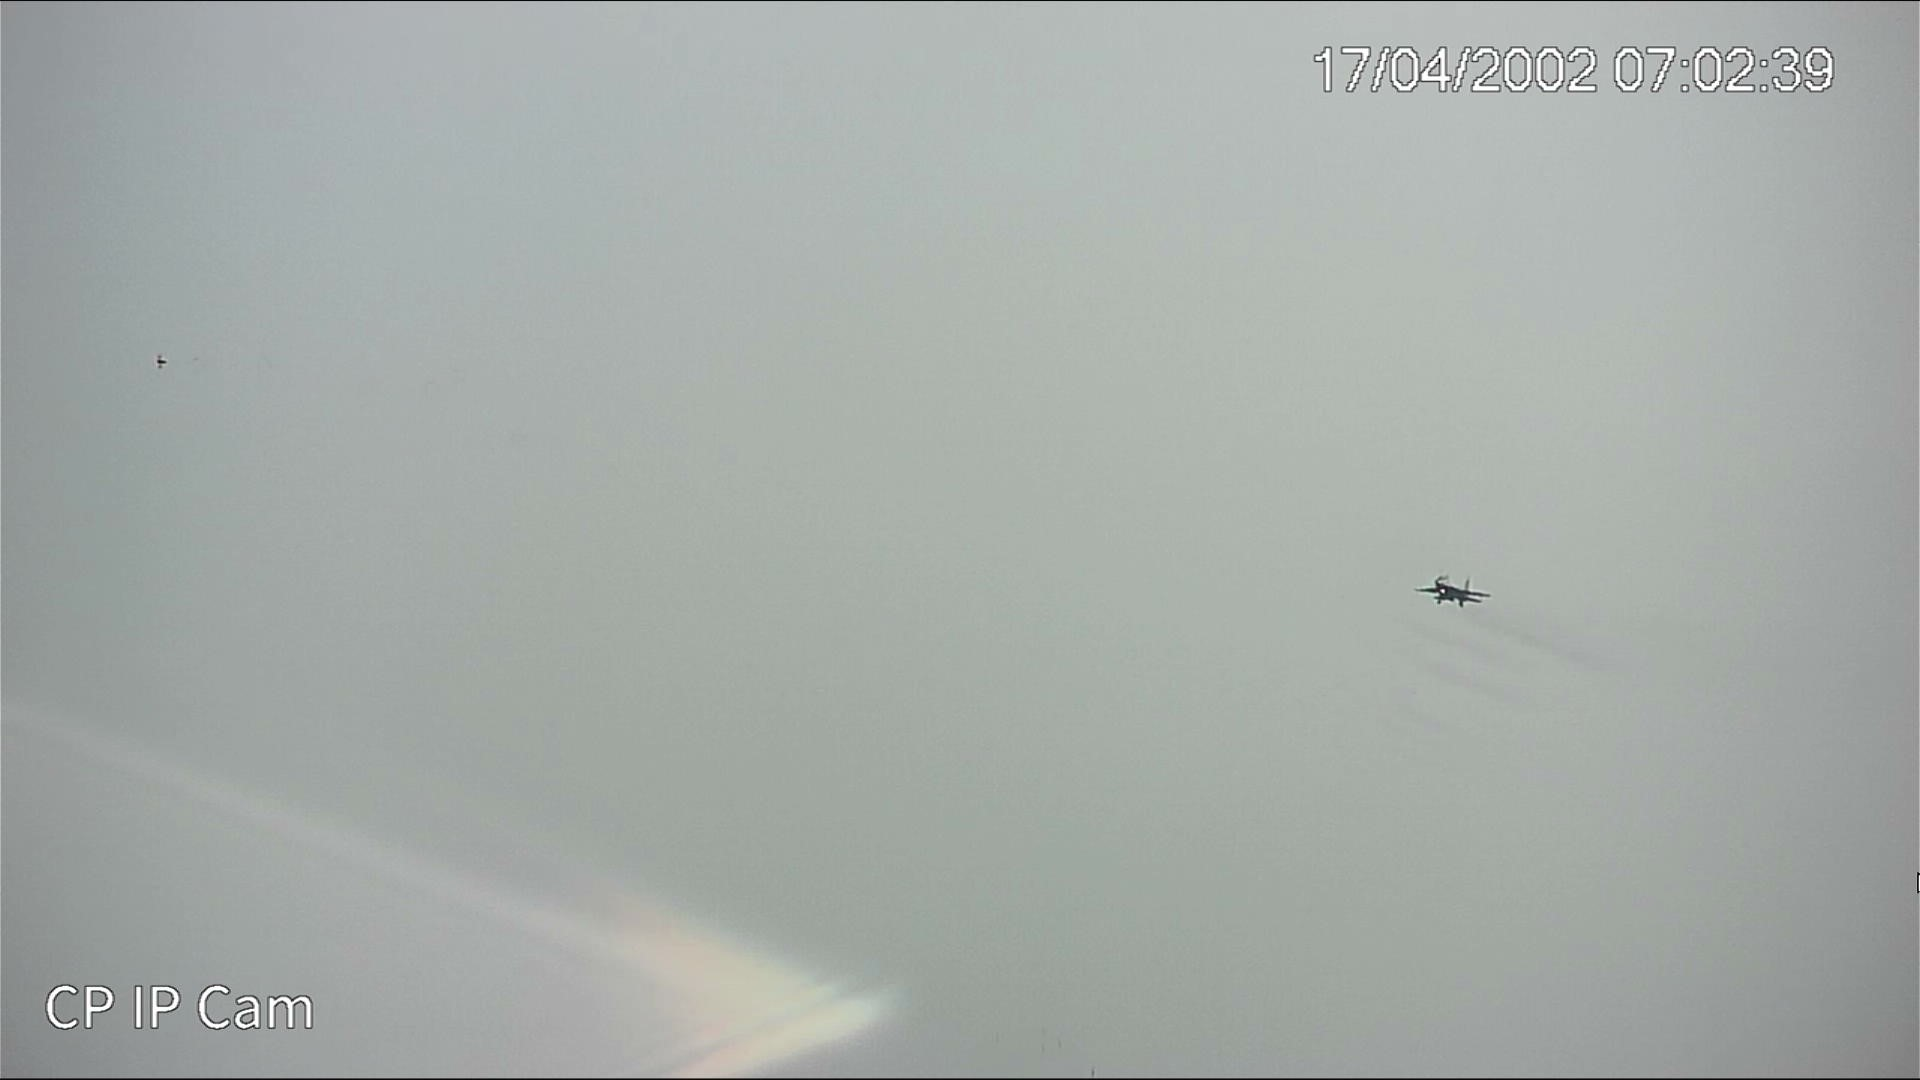SU_30: (1412, 571, 1487, 608)
